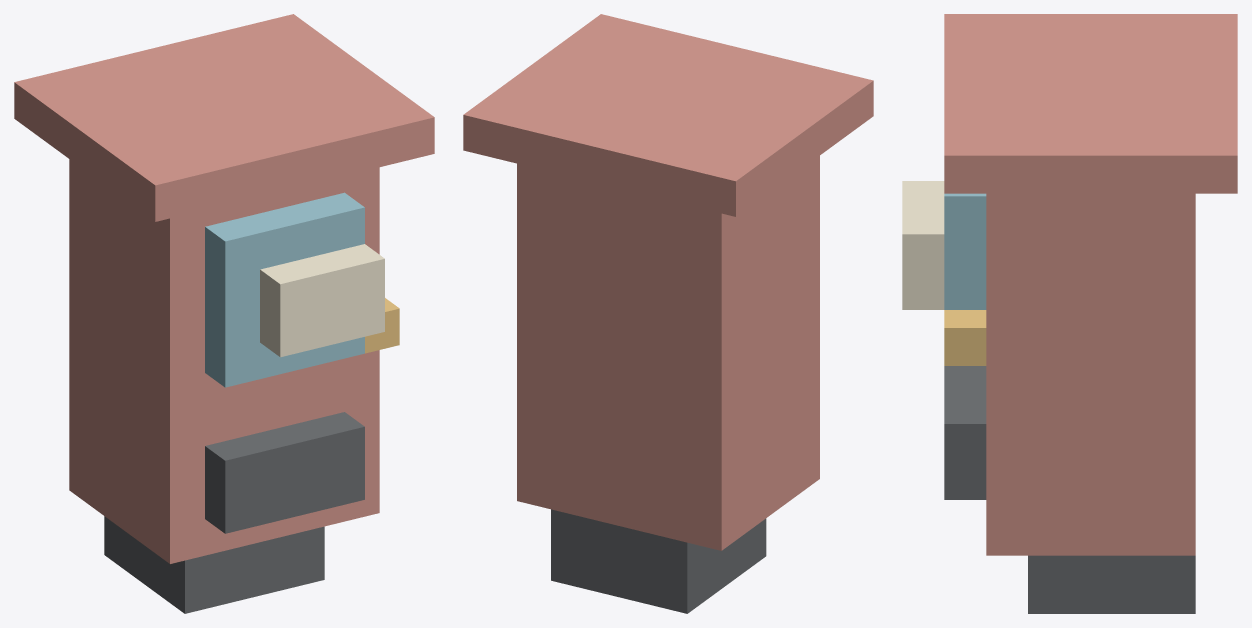
File: pocket-borough-newspaper-box__293.glb
3 views of the same model, side by side, from view 1: azimuth 30°, elevation 25°; view 2: azimuth 150°, elevation 25°; view 3: azimuth 270°, elevation 25° (orthographic). The views are drawn at different scales.
Parts seen in each view (by area): view 1: pocket-borough-newspaper-box; view 2: pocket-borough-newspaper-box; view 3: pocket-borough-newspaper-box.
Part boxes in pixels (x1,y1,x2,y2): pocket-borough-newspaper-box: (14, 14, 434, 613); pocket-borough-newspaper-box: (463, 14, 873, 613); pocket-borough-newspaper-box: (902, 14, 1237, 613).
Bounding box in the file's own units: 1 × 1.62 × 1.
